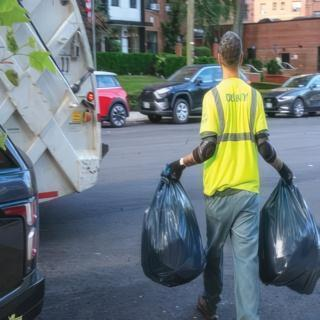Garbage: (139, 164, 206, 286), (258, 177, 318, 294)
